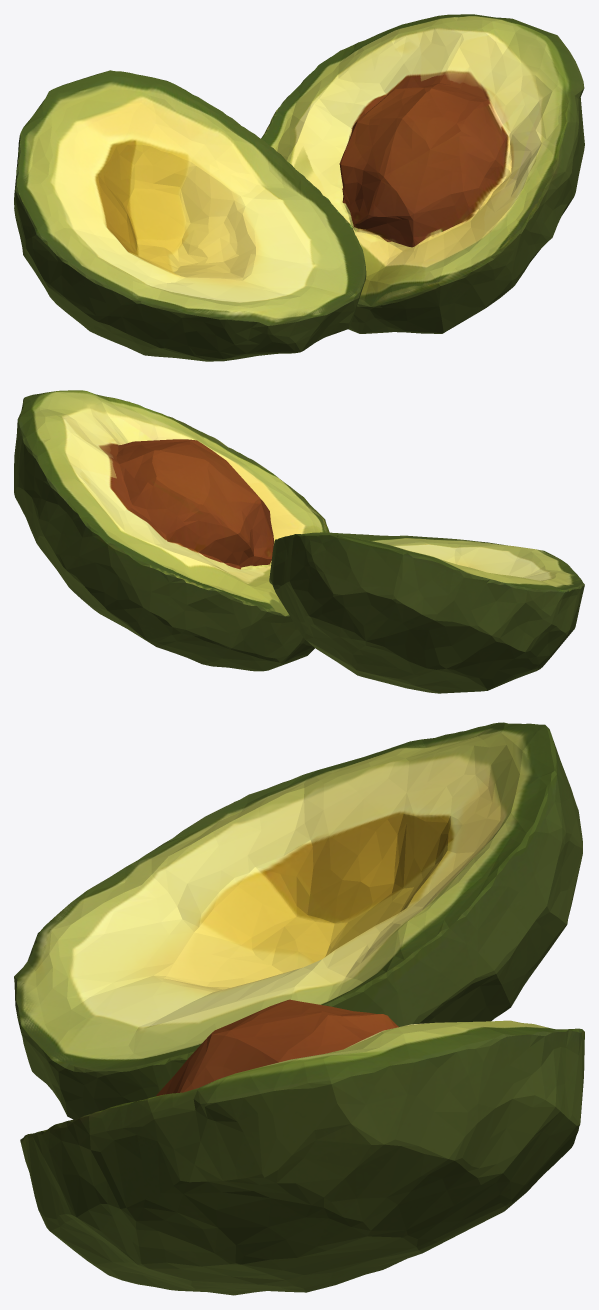
Rendered from large-organic-hass-avocado-usda-organic-20fada.glb.
3 renders of one model, top to bottom at view 1: azimuth 30°, elevation 25°; view 2: azimuth 150°, elevation 25°; view 3: azimuth 270°, elevation 25°, orthographic. The views are drawn at different scales.
Visible parts, largest first — view 1: tmpykusk03l.ply; view 2: tmpykusk03l.ply; view 3: tmpykusk03l.ply.
Part boxes in pixels (x1,y1,x2,y2): tmpykusk03l.ply: [14, 14, 584, 361]; tmpykusk03l.ply: [14, 390, 584, 693]; tmpykusk03l.ply: [14, 722, 584, 1295].
Size of the model in its own units: 1.99 by 0.815 by 1.15.
Materials: 1 (1 with a texture image).
